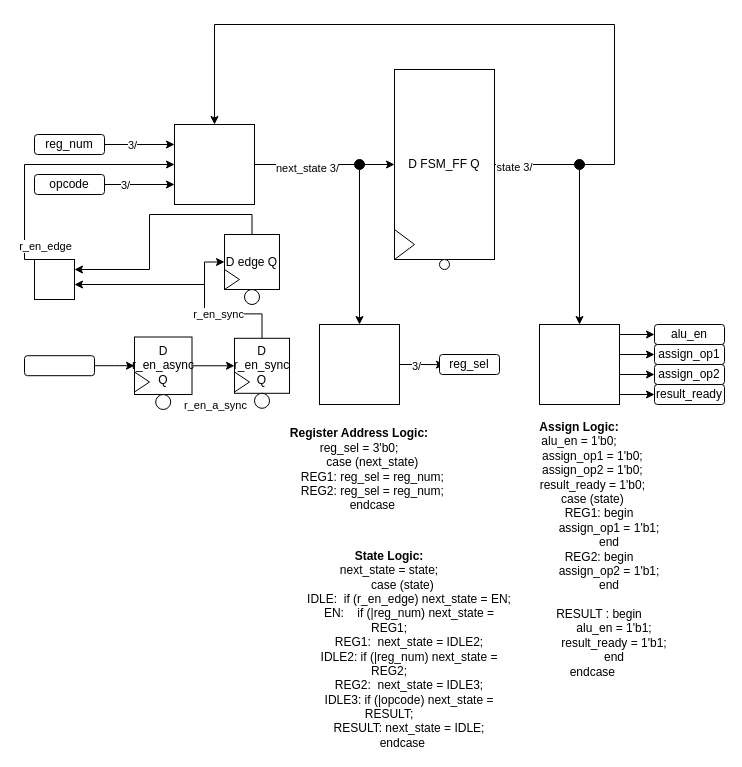
The diagram is 742 pixels wide and 767 high, and some of its shapes have lost their labels. Here are the shapes that lost their labels. From the top down, the centre of each, then its label:
At point 214,164: "state logic".
At point 54,279: "edge logic".
At point 59,365: "r_en".
At point 359,364: "reg address logic".
At point 579,364: "assign logic".
